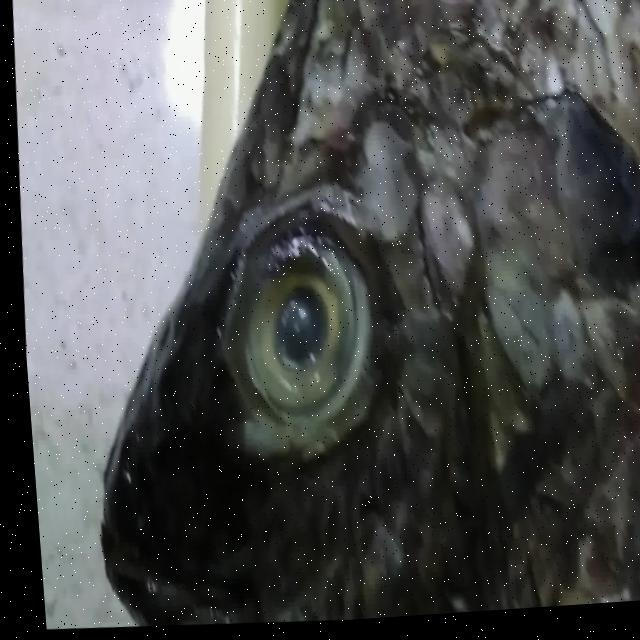Non-Fresh: (206, 217, 397, 472)
